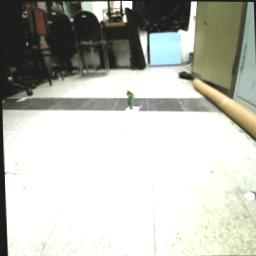herb: (127, 90, 136, 110)
